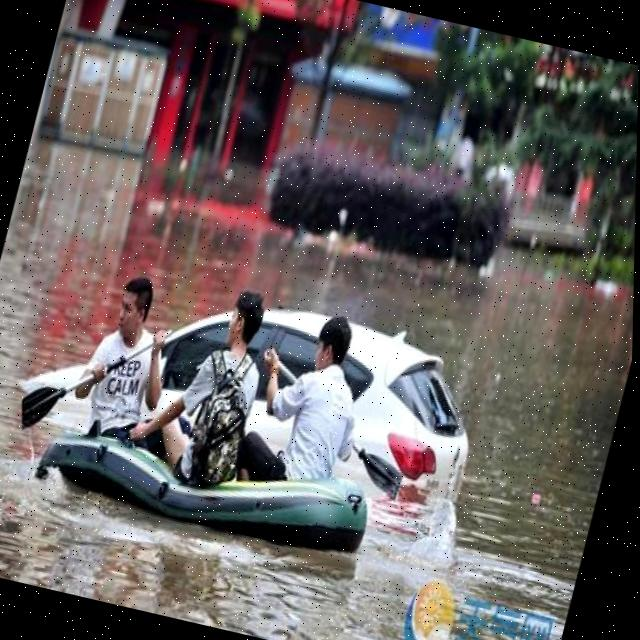civilian: (115, 262, 295, 498), (229, 294, 391, 514), (40, 261, 196, 474)
